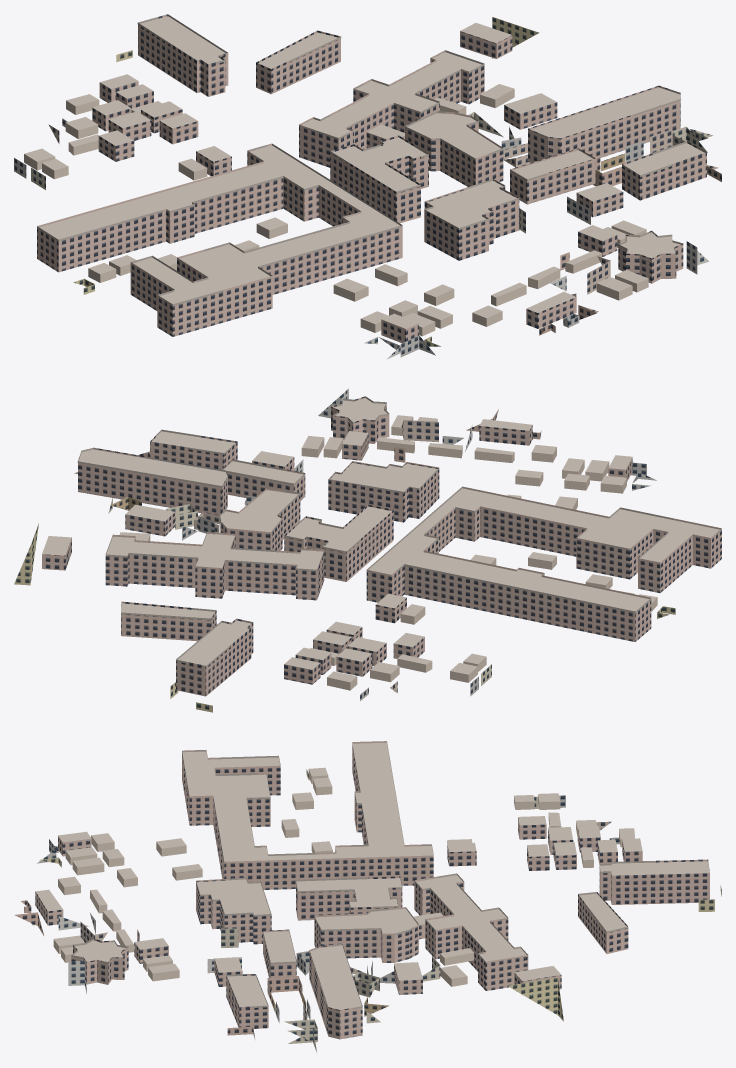
Rendered from chu_gabriel_toure.glb.
3 renders of one model, top to bottom at view 1: azimuth 30°, elevation 25°; view 2: azimuth 150°, elevation 25°; view 3: azimuth 270°, elevation 25°, orthographic. The views are drawn at different scales.
Visible parts, largest first — view 1: CHU_Gabriel_Toure; view 2: CHU_Gabriel_Toure; view 3: CHU_Gabriel_Toure.
Boxes of the visible parts, box(x1,y1,x2,y2) form: CHU_Gabriel_Toure: box(14, 14, 721, 359); CHU_Gabriel_Toure: box(14, 388, 721, 712); CHU_Gabriel_Toure: box(14, 741, 721, 1052).
Bounding box in the file's own units: 0.3275 × 0.0209 × 0.35.
2 materials, 2 textured.
